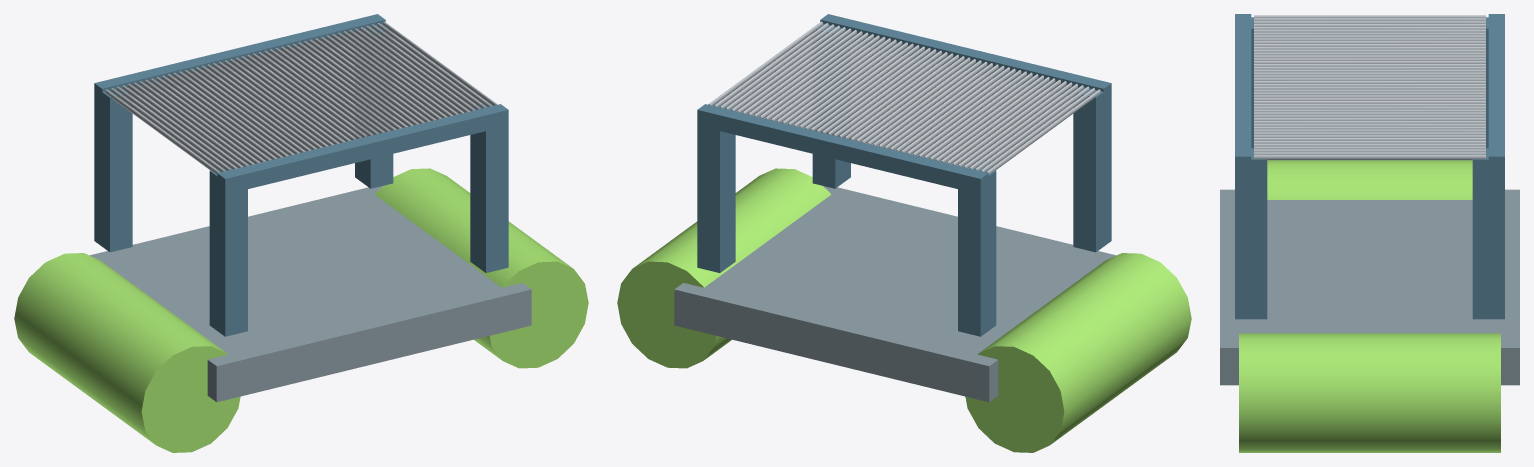
3 renders of one model, left to right at view 1: azimuth 30°, elevation 25°; view 2: azimuth 150°, elevation 25°; view 3: azimuth 270°, elevation 25°, orthographic. The views are drawn at different scales.
Visible parts, largest first — view 1: g0001, visualRoller (×2), g5, g1, g0, g3, g4, g2, g29, g35, g49, g11 (+46 smaller); view 2: g0001, visualRoller (×2), g4, g0, g1, g2, g5, g3, g29, g35, g49, g11 (+46 smaller); view 3: visualRoller (×2), g0001, g2, g3, g5, g4, g55, g10, g11, g12, g13, g17 (+46 smaller).
Boxes of the visible parts, x1,y1,x2,y2 form: g0001: (89,186,531,402); visualRoller (×2): (14,168,588,452); g5: (217,104,508,194); g1: (209,166,247,336); g0: (94,86,132,252); g3: (470,102,508,272); g4: (94,14,385,93); g2: (355,23,393,188); g29: (235,57,350,141); g35: (269,49,384,133); g49: (349,29,463,114); g11: (133,82,247,166); g0001: (674,186,1116,402); visualRoller (×2): (617,168,1191,452); g4: (697,104,988,188); g0: (958,166,996,336); g1: (1073,86,1111,252); g2: (697,102,735,272); g5: (820,14,1111,93); g3: (812,23,850,188); g29: (855,57,970,141); g35: (821,49,936,133); g49: (742,29,856,114); g11: (958,82,1072,166); visualRoller (×2): (1239,160,1500,452); g0001: (1220,189,1519,385); g2: (1472,148,1504,319); g3: (1235,148,1267,319); g5: (1235,14,1251,171); g4: (1488,14,1504,172); g55: (1254,155,1485,160); g10: (1254,26,1485,29); g11: (1254,29,1485,32); g12: (1254,32,1485,35); g13: (1254,35,1485,38); g17: (1254,46,1485,49).
Size of the model in its own units: 1.42 by 0.81 by 0.8.
